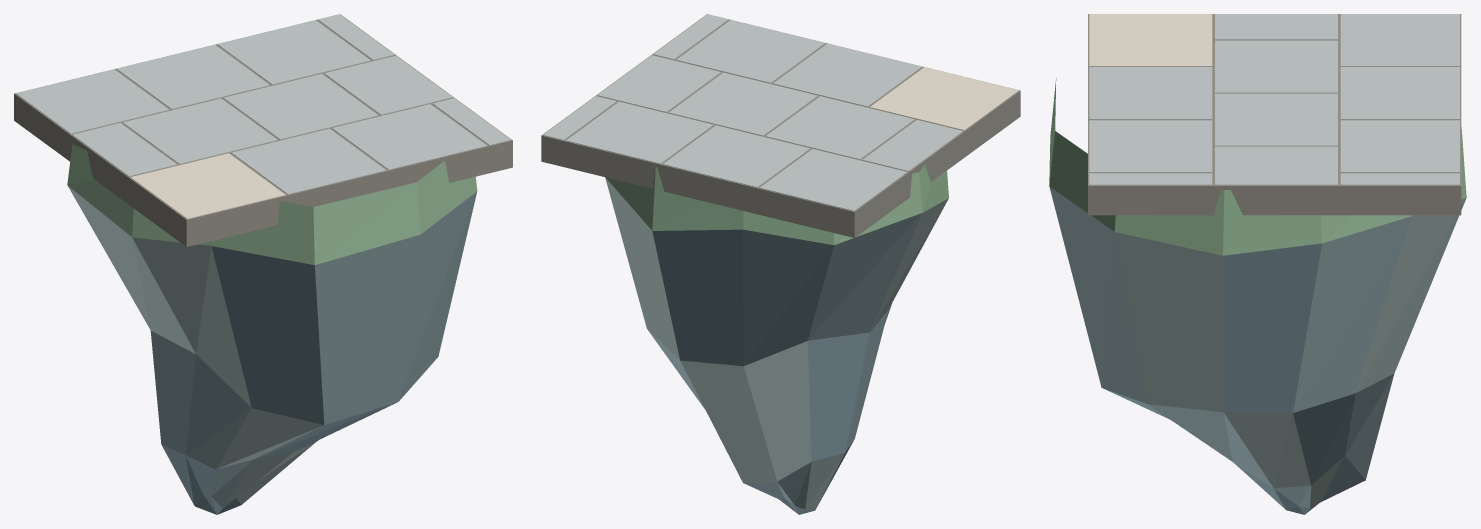
Rendered from FloatingIsland14.glb.
3 renders of one model, left to right at view 1: azimuth 30°, elevation 25°; view 2: azimuth 150°, elevation 25°; view 3: azimuth 270°, elevation 25°, orthographic. The views are drawn at different scales.
Parts seen in each view (by area): view 1: FloatingIsland14; view 2: FloatingIsland14; view 3: FloatingIsland14.
Part boxes in pixels (box(x1,y1,x2,y2)): FloatingIsland14: box(14, 14, 512, 514); FloatingIsland14: box(541, 14, 1020, 514); FloatingIsland14: box(1049, 14, 1466, 514).
Bounding box in the file's own units: 3.55 × 3.99 × 3.49.
